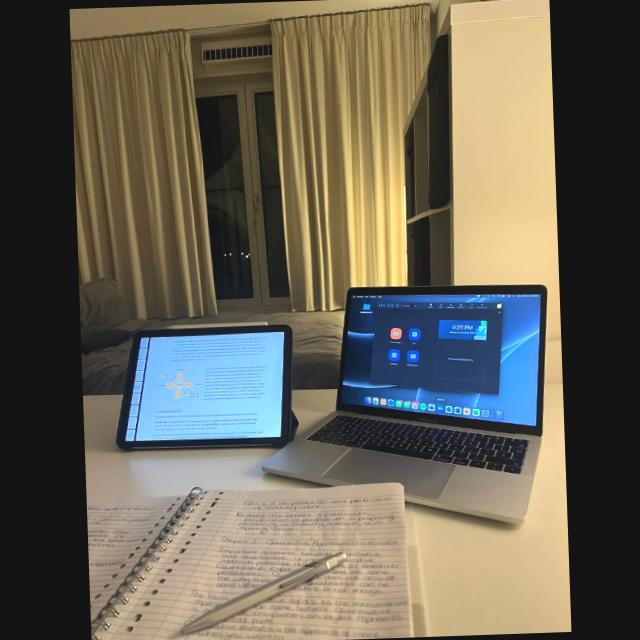laptop: (262, 284, 546, 521)
